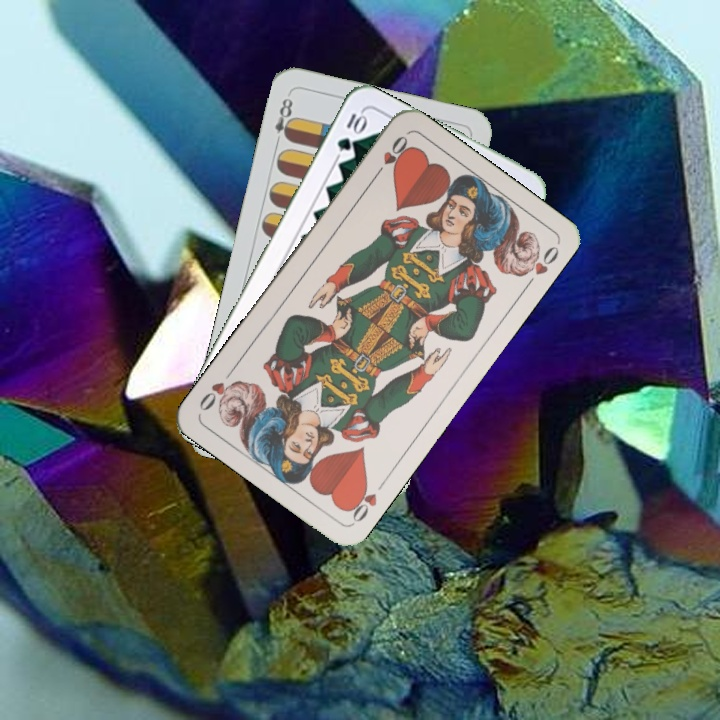E8: (271, 93, 297, 149)
G10: (332, 108, 369, 155)
HO: (369, 131, 411, 182), (342, 478, 380, 525)
